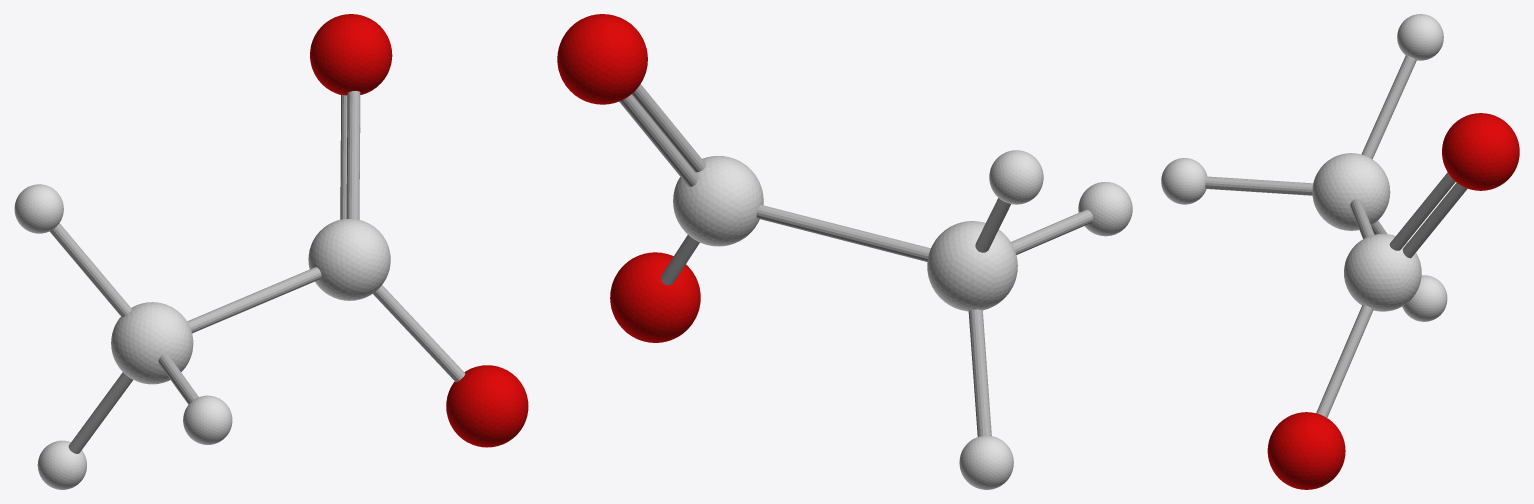
The picture shows the model from 3 angles, left to right: view 1: azimuth 30°, elevation 25°; view 2: azimuth 150°, elevation 25°; view 3: azimuth 270°, elevation 25°; orthographic projection. The views are drawn at different scales.
Visible parts, largest first — view 1: world; view 2: world; view 3: world.
Boxes of the visible parts, <box> form: world: <box>14,14,528,489</box>; world: <box>557,14,1132,489</box>; world: <box>1161,14,1519,489</box>.
Bounding box in the file's own units: 3.12 × 2.48 × 2.3.
